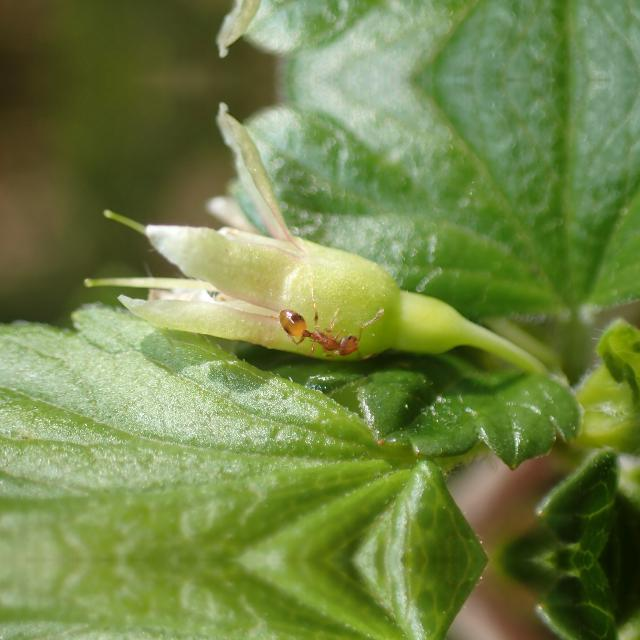Temnothorax: (260, 289, 376, 363)
